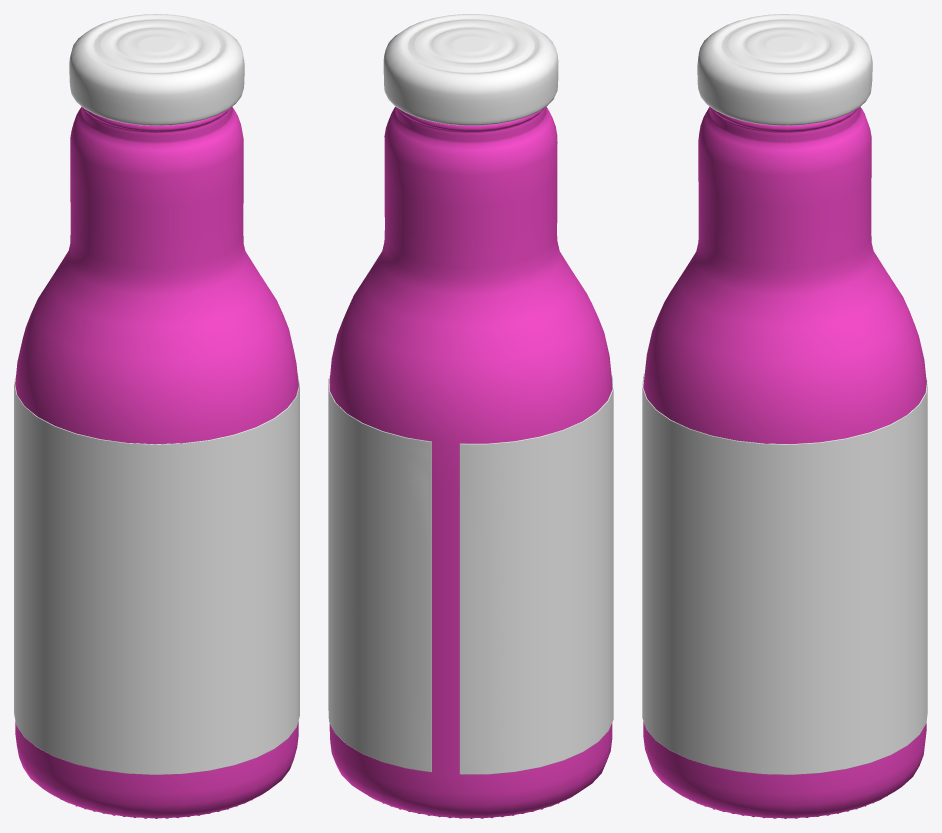
Rendered from hatsu_blanco.fbx.
3 renders of one model, left to right at view 1: azimuth 30°, elevation 25°; view 2: azimuth 150°, elevation 25°; view 3: azimuth 270°, elevation 25°, orthographic.
Parts seen in each view (by area): view 1: Bottle; view 2: Bottle; view 3: Bottle.
Boxes of the visible parts, x1,y1,x2,y2 form: Bottle: (14, 14, 299, 818); Bottle: (328, 14, 613, 818); Bottle: (642, 14, 927, 818).
Bounding box in the file's own units: 6.6 × 18.42 × 6.6.
